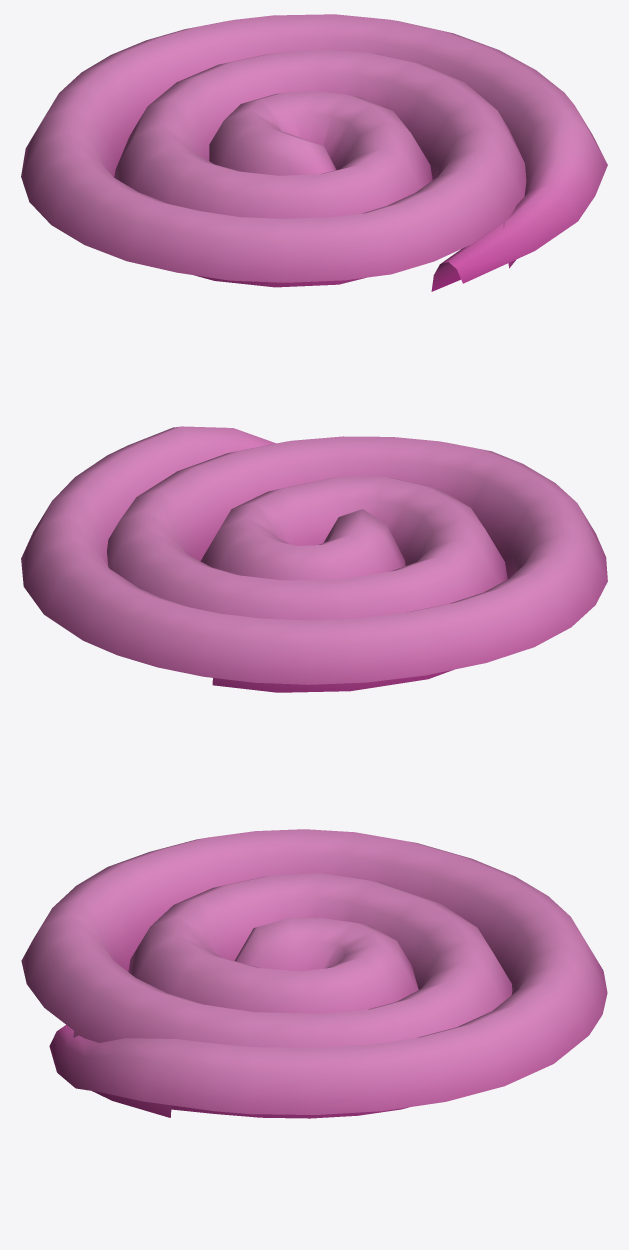
The model's file is Snail_bun_light_glaze.001.fbx.
3 views of the same model, one above another, from view 1: azimuth 30°, elevation 25°; view 2: azimuth 150°, elevation 25°; view 3: azimuth 270°, elevation 25° (orthographic). The views are drawn at different scales.
Parts seen in each view (by area): view 1: Snail_bun_light_glaze.001; view 2: Snail_bun_light_glaze.001; view 3: Snail_bun_light_glaze.001.
Boxes of the visible parts, left/top/right/bottom form: Snail_bun_light_glaze.001: left=21, top=14, right=607, bottom=291; Snail_bun_light_glaze.001: left=21, top=426, right=607, bottom=692; Snail_bun_light_glaze.001: left=21, top=829, right=607, bottom=1118.
Size of the model in its own units: 119 by 114 by 40.27.
